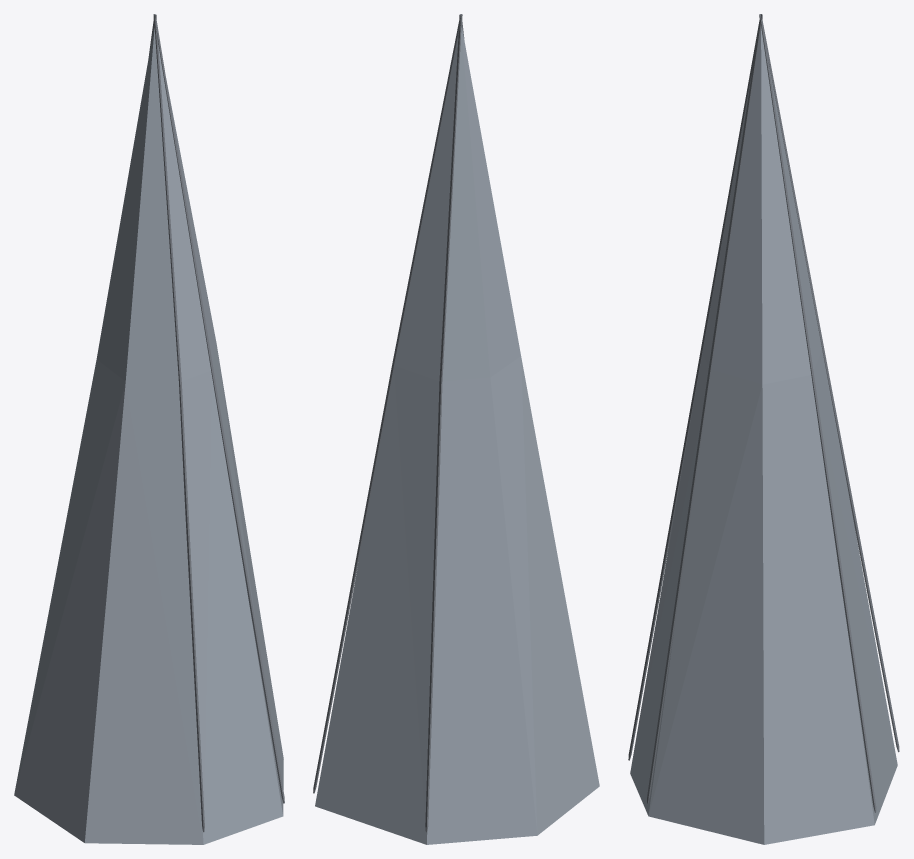
The model's file is Spire_3.fbx.
3 renders of one model, left to right at view 1: azimuth 30°, elevation 25°; view 2: azimuth 150°, elevation 25°; view 3: azimuth 270°, elevation 25°, orthographic.
Parts seen in each view (by area): view 1: Spire; view 2: Spire; view 3: Spire.
Boxes of the visible parts, <box> form: Spire: <box>14,14,284,844</box>; Spire: <box>313,14,599,844</box>; Spire: <box>628,14,899,844</box>.
Size of the model in its own units: 13.31 by 41.3 by 13.22.
